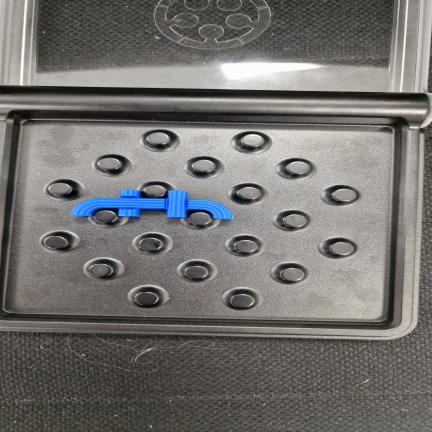C_DarkBlue: (71, 190, 232, 219)
board: (0, 87, 428, 339)
hinge: (0, 85, 432, 132)
pin: (48, 181, 77, 197), (282, 213, 308, 228), (142, 183, 167, 198), (139, 237, 164, 252), (329, 241, 354, 256), (134, 291, 159, 306), (230, 293, 255, 308), (331, 188, 357, 202), (280, 267, 304, 282), (240, 133, 265, 147), (286, 161, 311, 175), (191, 159, 216, 173), (97, 157, 122, 171), (43, 235, 68, 249), (233, 239, 258, 253), (184, 265, 209, 279), (88, 263, 113, 277), (237, 187, 261, 201), (188, 212, 212, 226), (146, 132, 171, 145), (93, 210, 118, 223)
